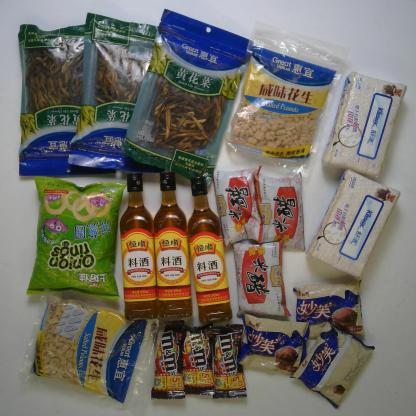Chocolate: (150, 320, 186, 401), (211, 324, 248, 400), (182, 323, 216, 396)
Dessert: (289, 320, 374, 409), (237, 314, 310, 373), (292, 278, 365, 334)
Dried Food: (120, 7, 254, 188), (66, 12, 164, 174), (17, 24, 117, 178)
Dried Fruit: (223, 21, 348, 179), (19, 287, 159, 409)
Puffed Food: (26, 174, 128, 300)
Seasoner: (187, 174, 233, 324), (152, 171, 193, 320), (119, 172, 158, 320), (246, 171, 307, 253), (231, 239, 292, 318), (211, 164, 262, 247)
Tissue: (306, 169, 400, 277), (321, 70, 407, 179)
